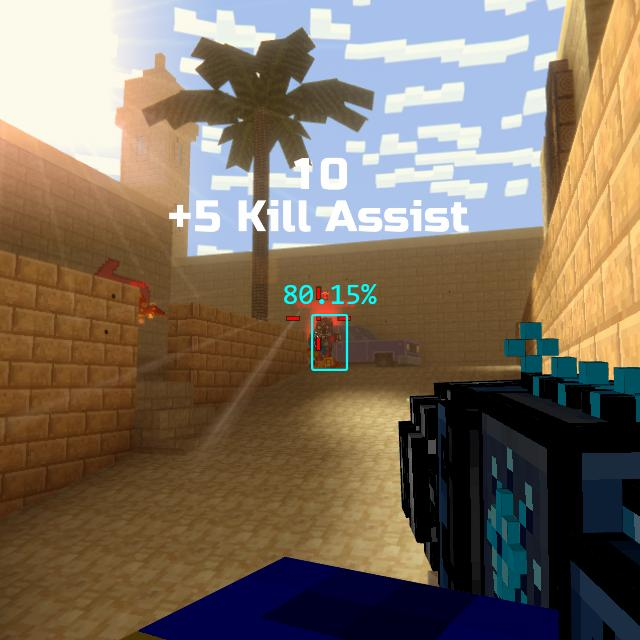Enemy: (313, 316, 336, 360)
